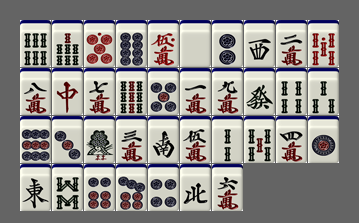0m: (148, 20, 179, 67)
0p: (84, 20, 115, 67)
0s: (308, 20, 339, 67)
1m: (180, 68, 211, 115)
1p: (308, 116, 339, 163)
1s: (84, 116, 115, 163)
1z: (20, 164, 51, 211)
2m: (276, 20, 307, 67)
2p: (212, 20, 243, 67)
2s: (212, 116, 243, 163)
2z: (148, 116, 179, 163)
3m: (116, 116, 147, 163)
3p: (52, 116, 83, 163)
3s: (308, 68, 339, 115)
3z: (244, 20, 275, 67)
4m: (276, 116, 307, 163)
4p: (148, 164, 179, 211)
4s: (276, 68, 307, 115)
4z: (180, 164, 211, 211)
5m: (180, 116, 211, 163)
5p: (148, 68, 179, 115)
5s: (244, 116, 275, 163)
5z: (180, 20, 211, 67)
6m: (212, 164, 243, 211)
6p: (84, 164, 115, 211)
6s: (20, 20, 51, 67)
6z: (244, 68, 275, 115)
7m: (84, 68, 115, 115)
7p: (116, 164, 147, 211)
7s: (52, 20, 83, 67)
7z: (52, 68, 83, 115)
8m: (20, 68, 51, 115)
8p: (116, 20, 147, 67)
8s: (52, 164, 83, 211)
9m: (212, 68, 243, 115)
9p: (20, 116, 51, 163)
9s: (116, 68, 147, 115)
